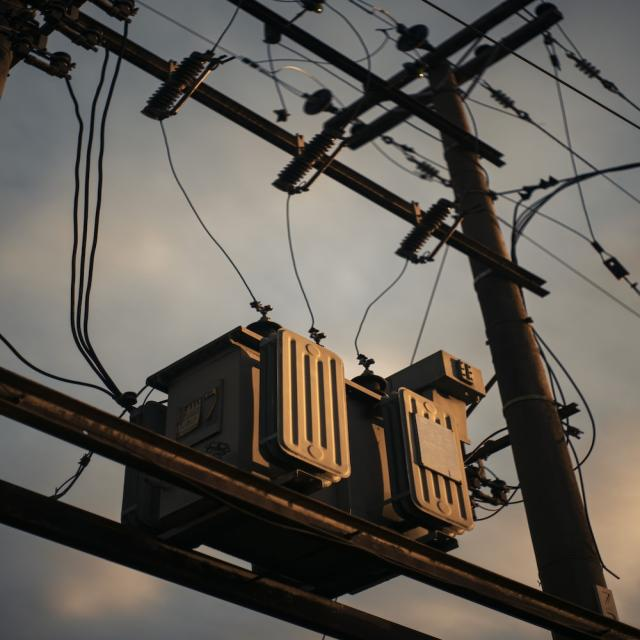insulator: (254, 126, 374, 184), (405, 190, 450, 269)
